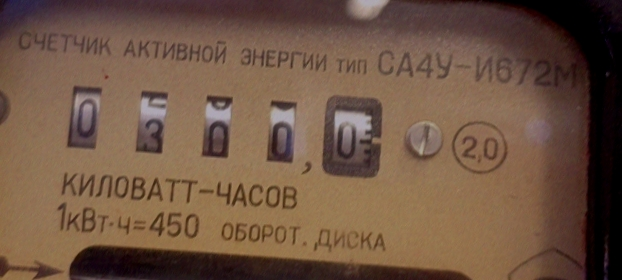0: (269, 118, 297, 163), (75, 94, 101, 142), (333, 118, 361, 162), (205, 117, 231, 159)
3: (141, 115, 166, 155)
screen: (46, 62, 406, 196)
